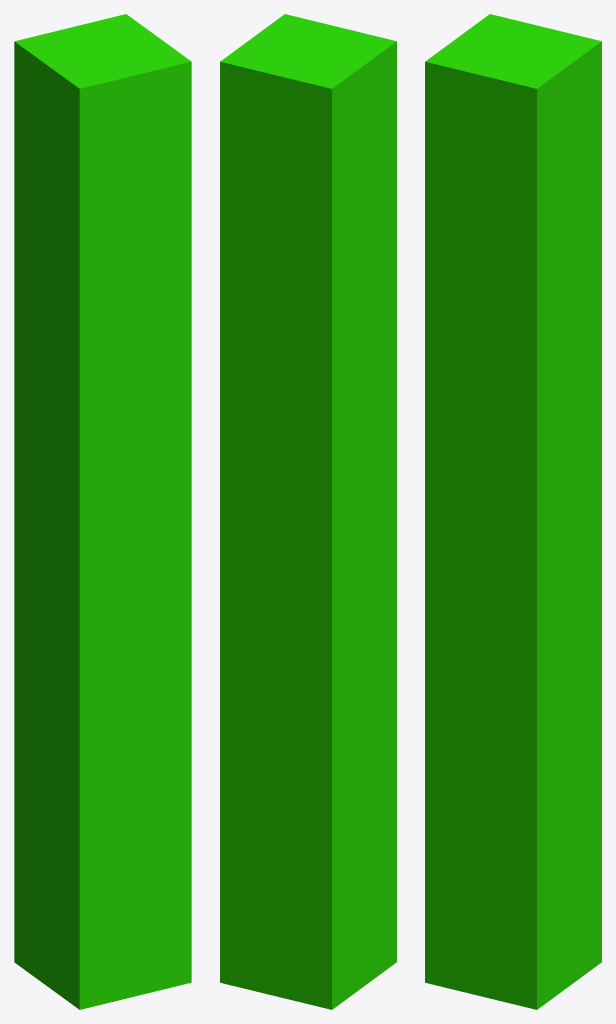
File: R_01_Pillar_01.fbx
3 views of the same model, side by side, from view 1: azimuth 30°, elevation 25°; view 2: azimuth 150°, elevation 25°; view 3: azimuth 330°, elevation 25° (orthographic).
Visible parts, largest first — view 1: R_01_Pillar_01; view 2: R_01_Pillar_01; view 3: R_01_Pillar_01.
Boxes of the visible parts, x1,y1,x2,y2 form: R_01_Pillar_01: [14, 14, 191, 1009]; R_01_Pillar_01: [220, 14, 396, 1009]; R_01_Pillar_01: [425, 14, 601, 1009].
Bounding box in the file's own units: 51 × 400 × 51.3.
